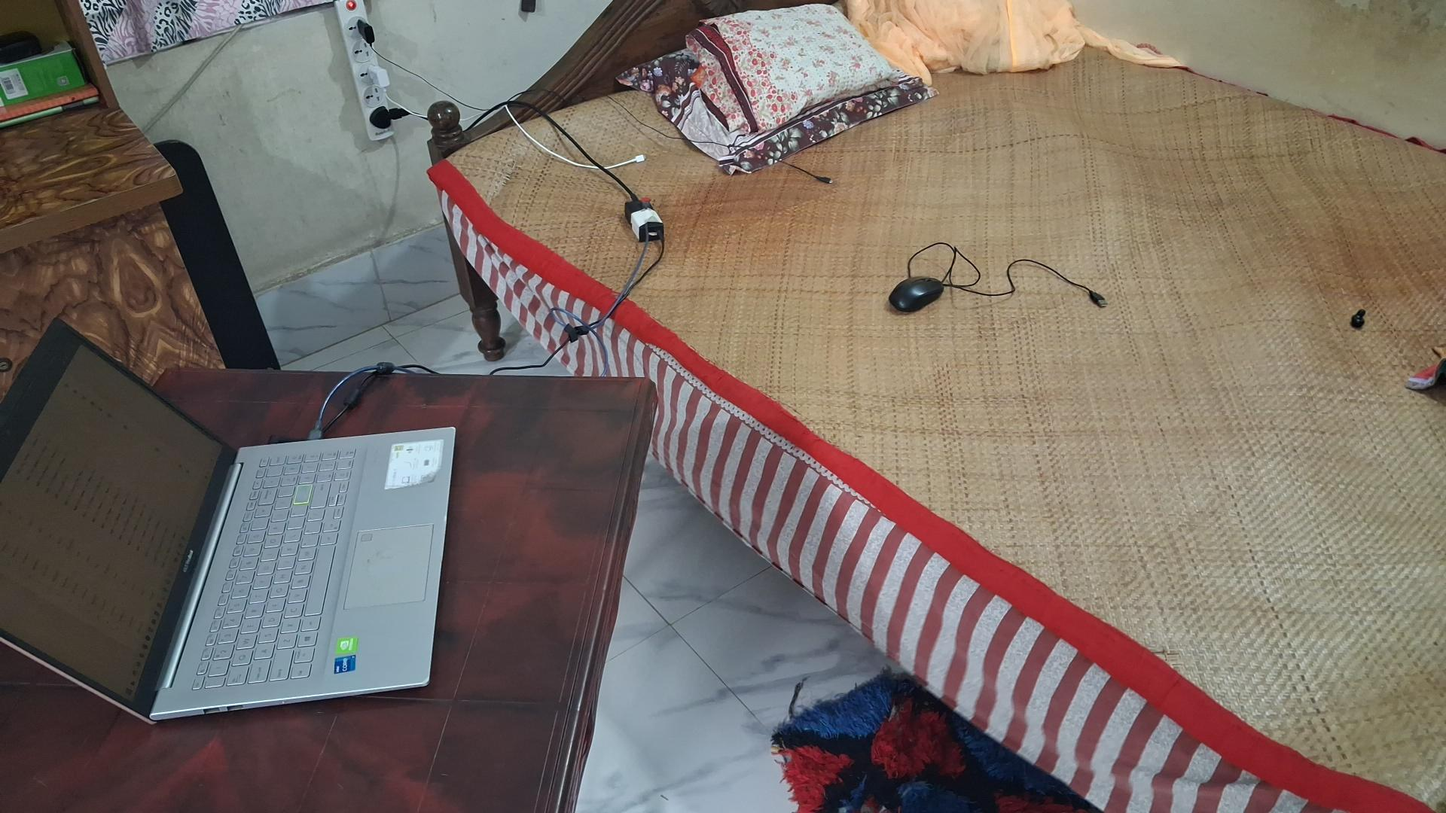Blanket: (672, 5, 895, 128)
Box: (0, 41, 83, 106)
Laptop: (1, 314, 455, 724)
Mouse: (887, 277, 946, 313)
Table: (0, 359, 661, 813)
